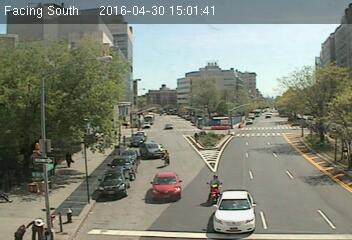neg: (204, 171, 223, 197), (113, 64, 127, 83), (215, 59, 228, 77), (4, 29, 17, 46), (160, 147, 172, 163), (290, 102, 301, 118), (54, 5, 64, 17), (166, 122, 171, 129)
pos: (25, 212, 44, 237), (62, 151, 74, 167), (192, 131, 200, 142)
